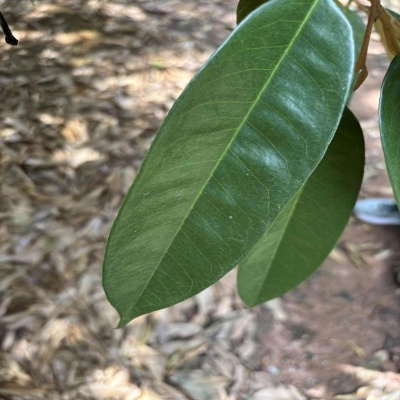Leaf_Healthy: (100, 0, 374, 333)
